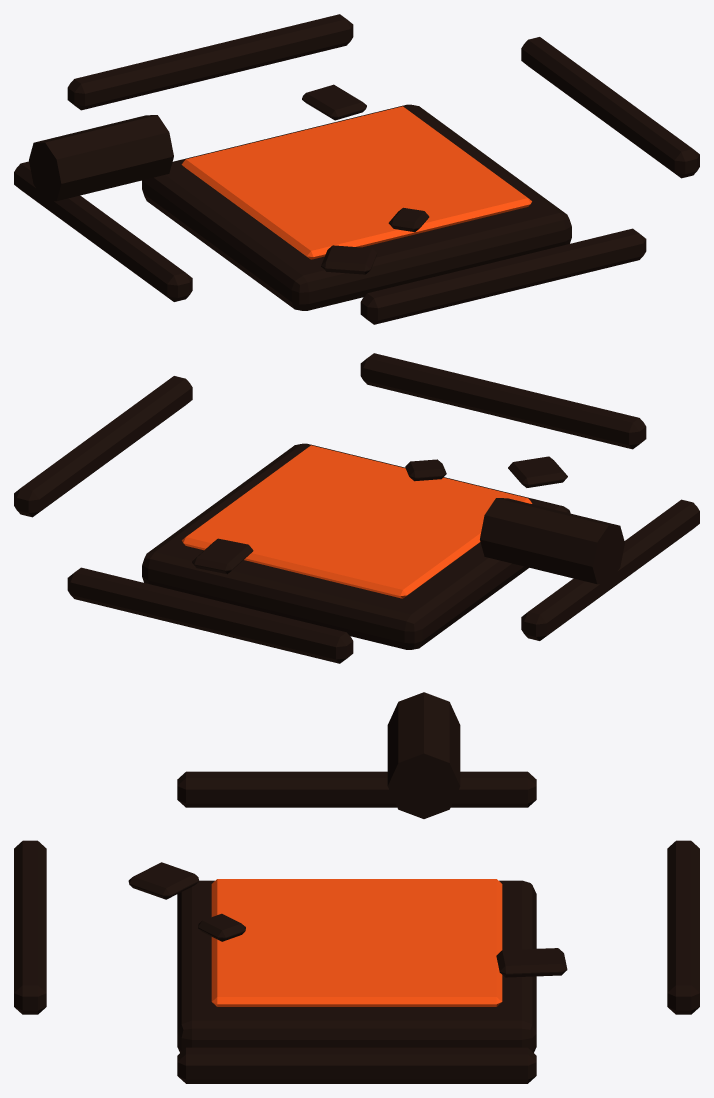
The model's file is slag_2.glb.
3 renders of one model, top to bottom at view 1: azimuth 30°, elevation 25°; view 2: azimuth 150°, elevation 25°; view 3: azimuth 270°, elevation 25°, orthographic. The views are drawn at different scales.
Visible parts, largest first — view 1: slag; view 2: slag; view 3: slag.
Boxes of the visible parts, x1,y1,x2,y2 form: slag: (14, 14, 699, 324); slag: (14, 353, 699, 663); slag: (14, 692, 699, 1083).
Bounding box in the file's own units: 0.9725 × 0.22 × 0.945.
